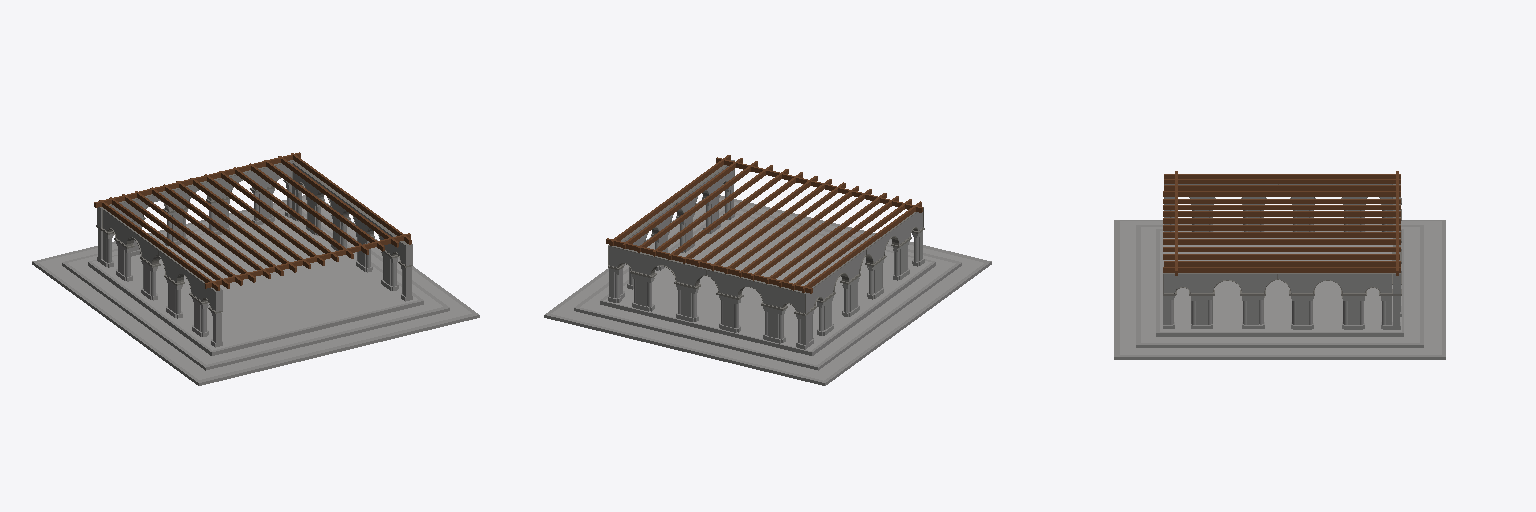
Rendered from NEW PAVILLION.obj.
The picture shows the model from 3 angles: view 1: azimuth 30°, elevation 25°; view 2: azimuth 150°, elevation 25°; view 3: azimuth 270°, elevation 25°; orthographic projection.
Visible parts, largest first — view 1: Mesh10, Mesh4, Mesh3, Mesh6, Mesh5, Mesh53, Mesh52, Mesh2, Mesh38, Mesh39, Mesh43, Mesh45 (+12 smaller); view 2: Mesh10, Mesh2, Mesh5, Mesh4, Mesh3, Mesh53, Mesh52, Mesh49, Mesh40, Mesh43, Mesh51, Mesh41 (+11 smaller); view 3: Mesh10, Mesh6, Mesh7, Mesh39, Mesh40, Mesh41, Mesh42, Mesh43, Mesh51, Mesh45, Mesh46, Mesh49 (+6 smaller).
Part boxes in pixels (left/top/right/bottom): Mesh10: left=32, top=195, right=479, bottom=385; Mesh4: left=159, top=250, right=222, bottom=313; Mesh3: left=101, top=208, right=160, bottom=267; Mesh6: left=349, top=203, right=412, bottom=267; Mesh5: left=200, top=160, right=293, bottom=203; Mesh53: left=94, top=152, right=300, bottom=207; Mesh52: left=205, top=233, right=410, bottom=288; Mesh2: left=96, top=184, right=199, bottom=229; Mesh38: left=163, top=184, right=283, bottom=275; Mesh39: left=176, top=181, right=296, bottom=272; Mesh43: left=234, top=167, right=353, bottom=258; Mesh45: left=135, top=191, right=255, bottom=282; Mesh10: left=544, top=196, right=991, bottom=385; Mesh2: left=707, top=269, right=809, bottom=315; Mesh5: left=608, top=245, right=706, bottom=288; Mesh4: left=865, top=207, right=924, bottom=266; Mesh3: left=810, top=248, right=866, bottom=311; Mesh53: left=606, top=238, right=812, bottom=293; Mesh52: left=716, top=157, right=922, bottom=212; Mesh49: left=637, top=161, right=757, bottom=252; Mesh40: left=711, top=179, right=831, bottom=270; Mesh43: left=668, top=169, right=788, bottom=259; Mesh51: left=610, top=155, right=730, bottom=245; Mesh41: left=697, top=176, right=817, bottom=266; Mesh10: left=1114, top=220, right=1445, bottom=359; Mesh6: left=1163, top=273, right=1277, bottom=295; Mesh7: left=1278, top=273, right=1391, bottom=295; Mesh39: left=1163, top=211, right=1400, bottom=216; Mesh40: left=1163, top=218, right=1400, bottom=223; Mesh41: left=1163, top=225, right=1400, bottom=230; Mesh42: left=1163, top=232, right=1400, bottom=237; Mesh43: left=1163, top=239, right=1400, bottom=244; Mesh51: left=1163, top=267, right=1400, bottom=272; Mesh45: left=1163, top=191, right=1400, bottom=196; Mesh46: left=1164, top=185, right=1400, bottom=190; Mesh49: left=1163, top=254, right=1399, bottom=259.
Bounding box in the file's own units: 2717 × 651 × 2788.